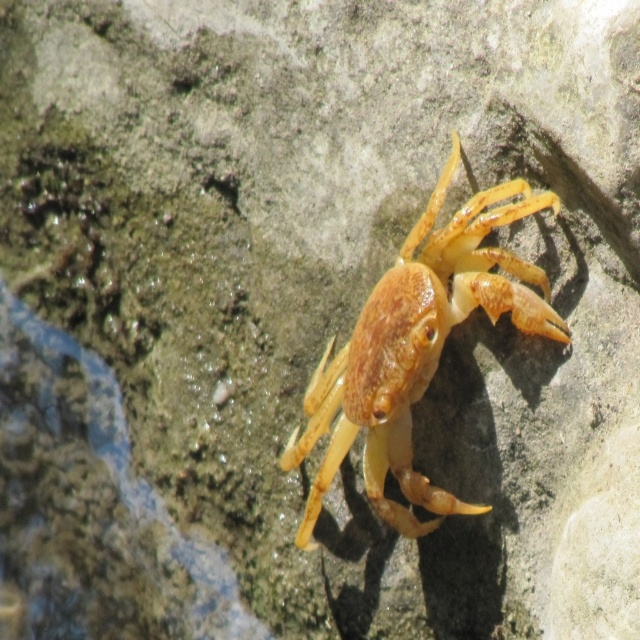Crab: (277, 133, 579, 551)
